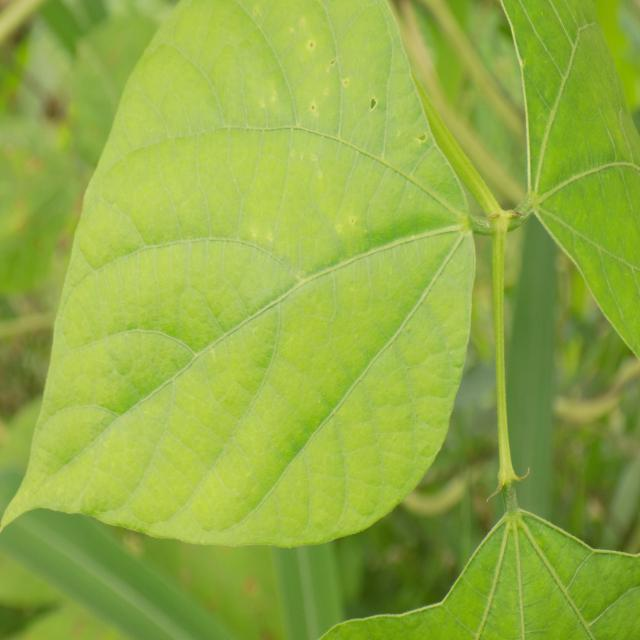Dolicos bean_healthy: (0, 0, 474, 540)
